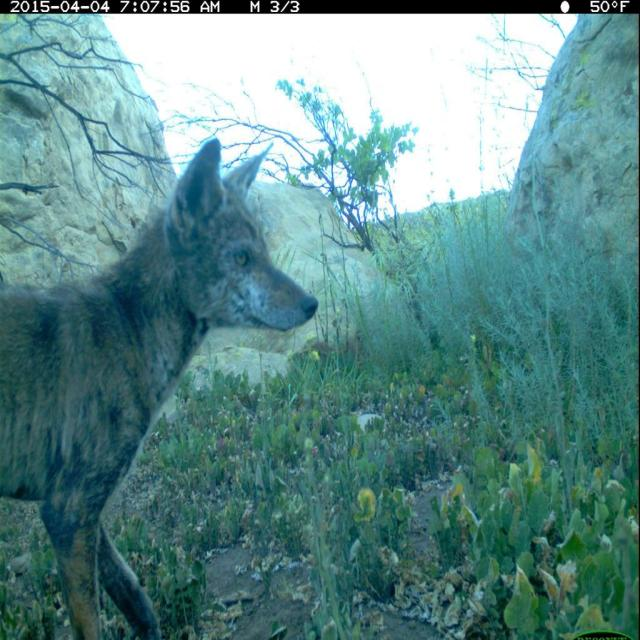coyote: (4, 134, 322, 640)
